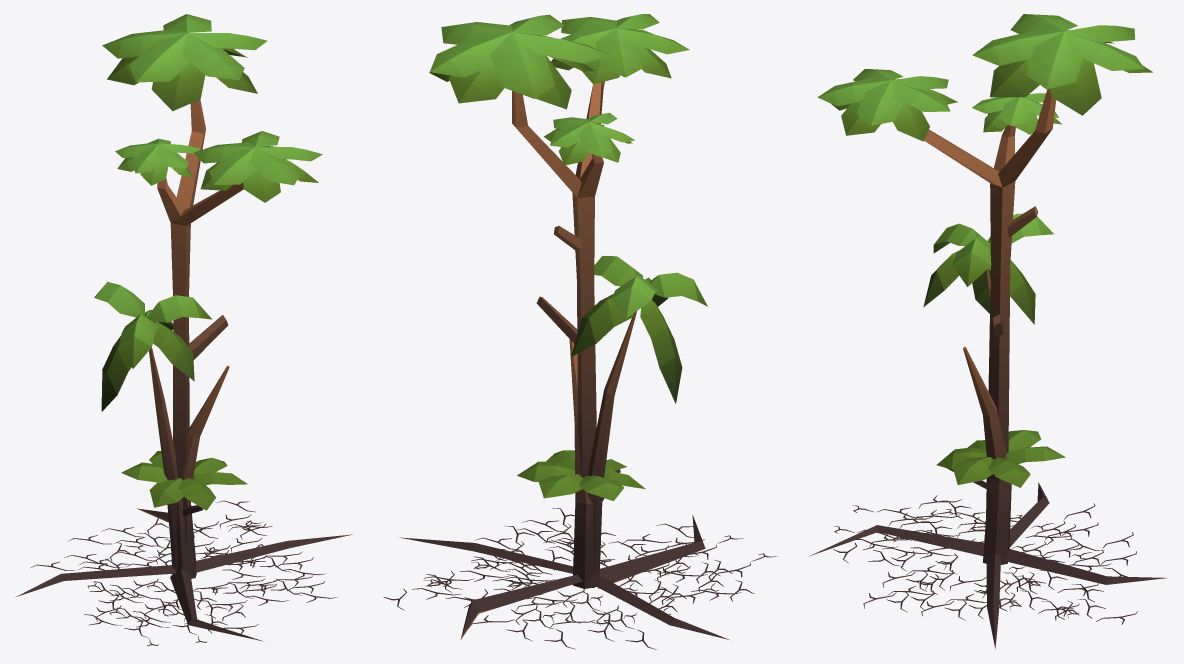
The model's file is P_Group_Yves_Pack_TreeP001.fbx.
3 views of the same model, side by side, from view 1: azimuth 30°, elevation 25°; view 2: azimuth 150°, elevation 25°; view 3: azimuth 270°, elevation 25° (orthographic). The views are drawn at different scales.
Visible parts, largest first — view 1: P_Tree_003__1_, P_Tree_000, P_Tree_001__2_; view 2: P_Tree_003__1_, P_Tree_000, P_Tree_001__2_; view 3: P_Tree_003__1_, P_Tree_001__2_, P_Tree_000.
Part boxes in pixels (x1,y1,x2,y2): P_Tree_003__1_: [15, 14, 353, 641]; P_Tree_000: [94, 281, 212, 571]; P_Tree_001__2_: [121, 365, 247, 578]; P_Tree_003__1_: [398, 14, 730, 640]; P_Tree_000: [571, 255, 707, 587]; P_Tree_001__2_: [517, 339, 645, 588]; P_Tree_003__1_: [808, 14, 1167, 649]; P_Tree_001__2_: [936, 347, 1065, 564]; P_Tree_000: [923, 213, 1053, 324].
Bounding box in the file's own units: 712 × 1085 × 651.
Materials: 2 (2 with a texture image).
